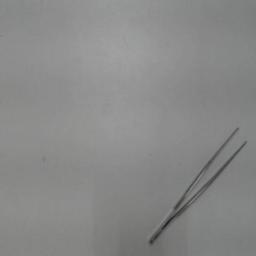Gillies Toothed Dissector: (144, 120, 252, 250)
